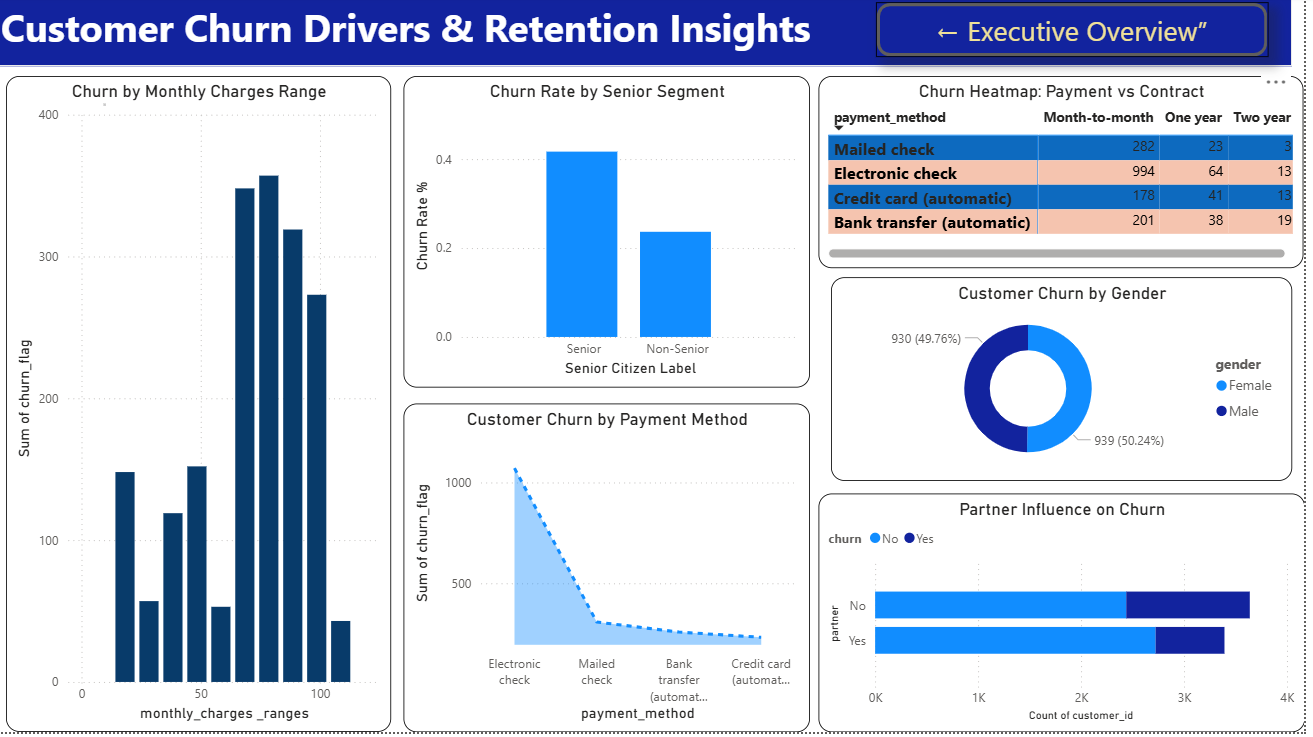

The page's visual inventory and layout, read from the dashboard file:
{"tool":"powerbi","page":{"name":"Customer Insights","canvas":[1280,720],"ordinal":1},"visuals":[{"type":"donutChart","title":"Customer Churn by Gender","fields":{"Category":["Churn Data.gender"],"Y":["Sum(Churn Data.churn_flag)"]},"box":[816.9,275.1,451.2,199.3],"z":0},{"type":"clusteredColumnChart","title":"Churn Rate by Senior Segment","fields":{"Category":["Churn Data.Senior Citizen Label"],"Y":["Churn Data.Churn Rate %"]},"box":[398.6,78.3,397.4,304.5],"z":1000},{"type":"areaChart","title":"Customer Churn by Payment Method","fields":{"Category":["Churn Data.payment_method"],"Y":["Sum(Churn Data.churn_flag)"]},"box":[398.8,398.8,397.5,321.2],"z":2000},{"type":"pivotTable","title":"Churn Heatmap: Payment vs Contract","fields":{"Rows":["Churn Data.payment_method"],"Columns":["Churn Data.contract"],"Values":["Sum(Churn Data.churn_flag)"]},"box":[804.6,78.3,474.5,188.3],"z":3000},{"type":"clusteredColumnChart","title":"Churn by Monthly Charges Range","fields":{"Y":["Sum(Churn Data.churn_flag)"],"Category":["Churn Data.monthly_charges _ranges"]},"box":[9.8,78.3,376.6,642],"z":4000},{"type":"barChart","title":"Partner Influence on Churn","fields":{"Category":["Churn Data.partner"],"Series":["Churn Data.churn"],"Y":["CountNonNull(Churn Data.customer_id)"]},"box":[804.6,486.7,475.7,233.6],"z":5000},{"type":"textbox","box":[0,0,1267.5,68.8],"z":6000},{"type":"actionButton","box":[860.9,6.1,384,53.8],"z":7000},{"type":"textbox","box":[100,100,12.5,12.5],"z":8000}]}

Visuals, with their boxes in screenshot pixels (x1, y1, x2, y2), scaled from the page's 1280x720 canvas onto the 1313x737 screenshot:
"Customer Churn by Gender" donutChart: [x1=838, y1=282, x2=1301, y2=486]
"Churn Rate by Senior Segment" clusteredColumnChart: [x1=409, y1=80, x2=817, y2=392]
"Customer Churn by Payment Method" areaChart: [x1=409, y1=408, x2=817, y2=736]
"Churn Heatmap: Payment vs Contract" pivotTable: [x1=825, y1=80, x2=1312, y2=273]
"Churn by Monthly Charges Range" clusteredColumnChart: [x1=10, y1=80, x2=396, y2=736]
"Partner Influence on Churn" barChart: [x1=825, y1=498, x2=1312, y2=736]
textbox: [x1=0, y1=0, x2=1300, y2=70]
actionButton: [x1=883, y1=6, x2=1277, y2=61]
textbox: [x1=103, y1=102, x2=115, y2=115]
